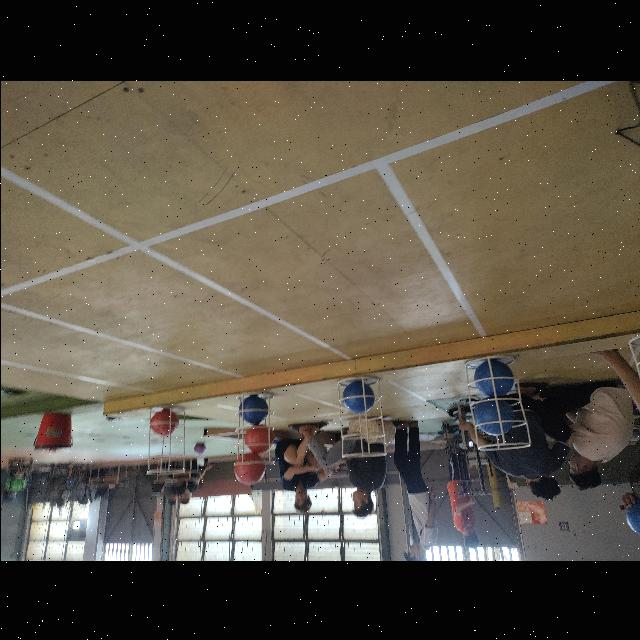B: (473, 359, 513, 397), (472, 398, 512, 434), (341, 381, 373, 413), (238, 395, 268, 423)
R: (232, 454, 266, 484), (243, 424, 273, 452), (150, 409, 178, 435)
